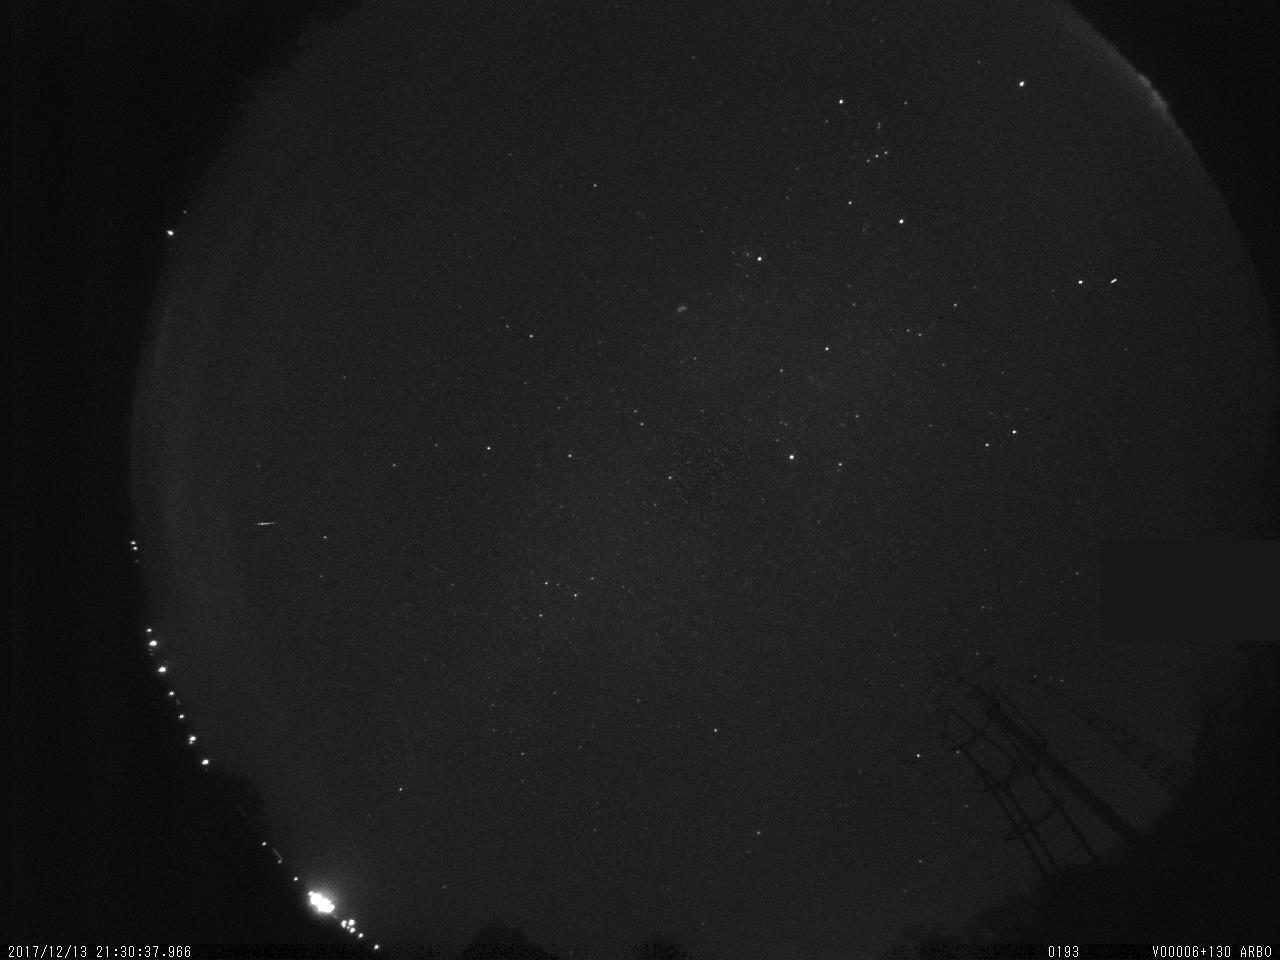meteor: (247, 512, 283, 533)
